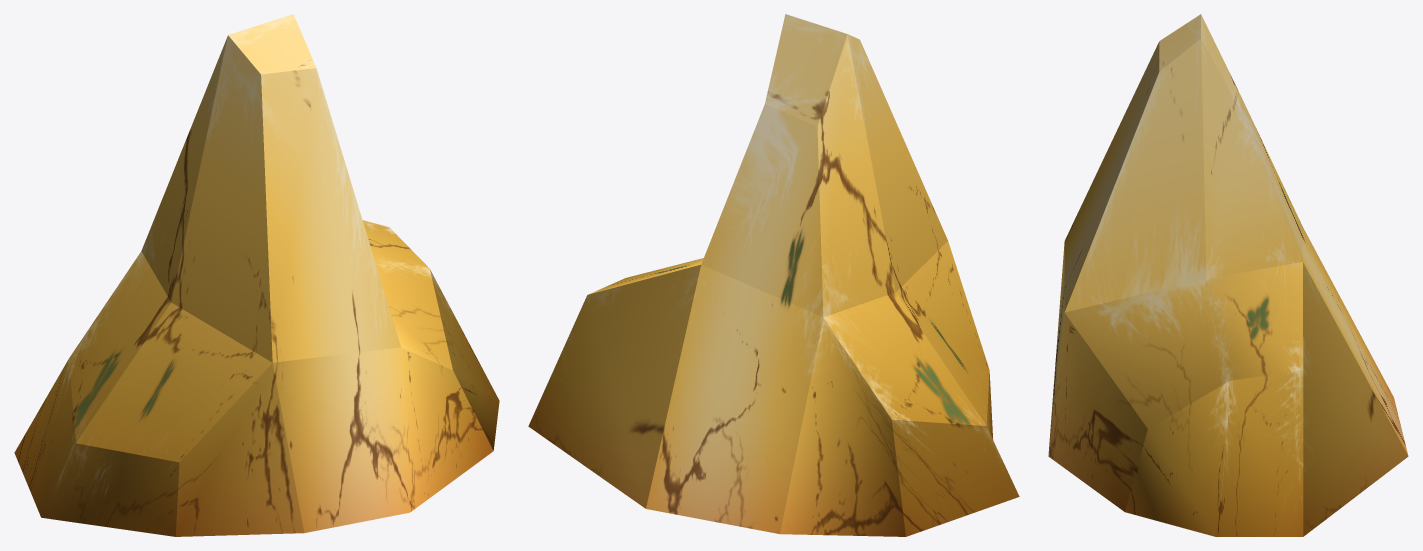
The model's file is Rock003.fbx.
The picture shows the model from 3 angles, left to right: view 1: azimuth 30°, elevation 25°; view 2: azimuth 150°, elevation 25°; view 3: azimuth 270°, elevation 25°; orthographic projection. The views are drawn at different scales.
Parts seen in each view (by area): view 1: Rock003; view 2: Rock003; view 3: Rock003.
Boxes of the visible parts, x1,y1,x2,y2 form: Rock003: (14, 14, 499, 536); Rock003: (528, 14, 1019, 536); Rock003: (1048, 14, 1408, 536).
Size of the model in its own units: 18.37 by 16.85 by 13.62.
